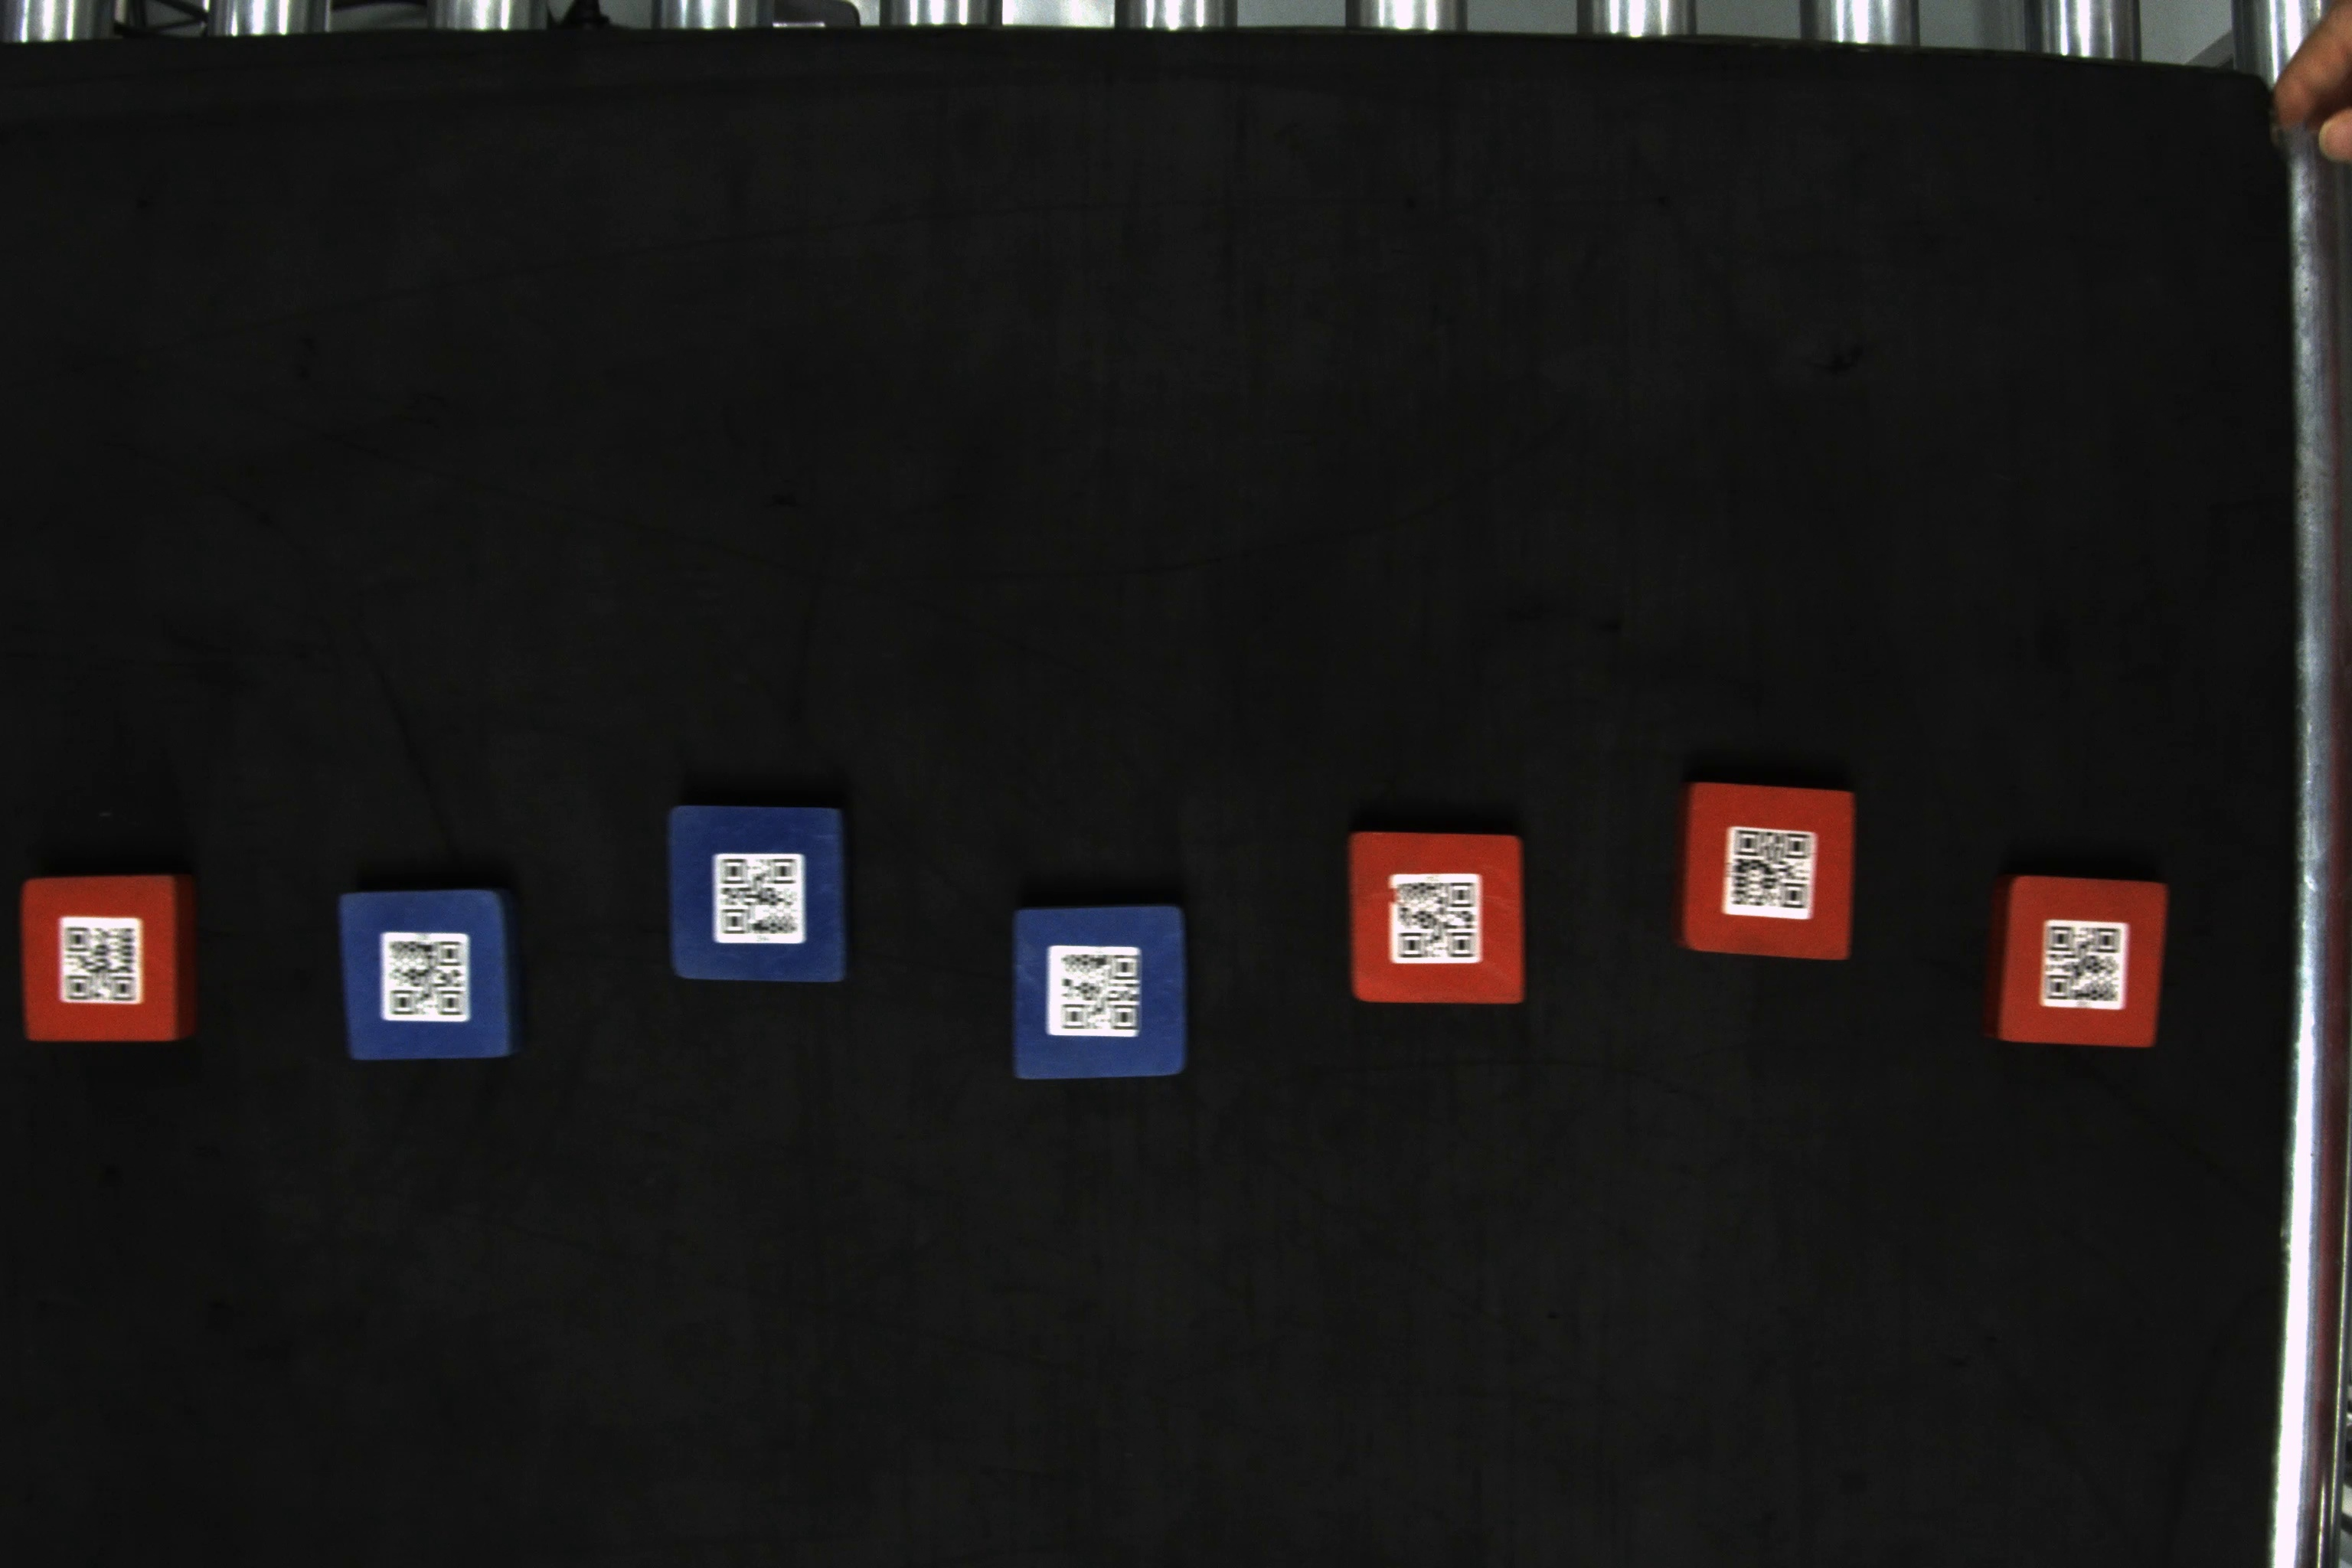wood: (1983, 859, 2180, 1057), (1669, 772, 1865, 968), (331, 884, 530, 1066), (1004, 901, 1199, 1087), (661, 803, 857, 983), (1344, 826, 1529, 1011), (17, 873, 201, 1046)
